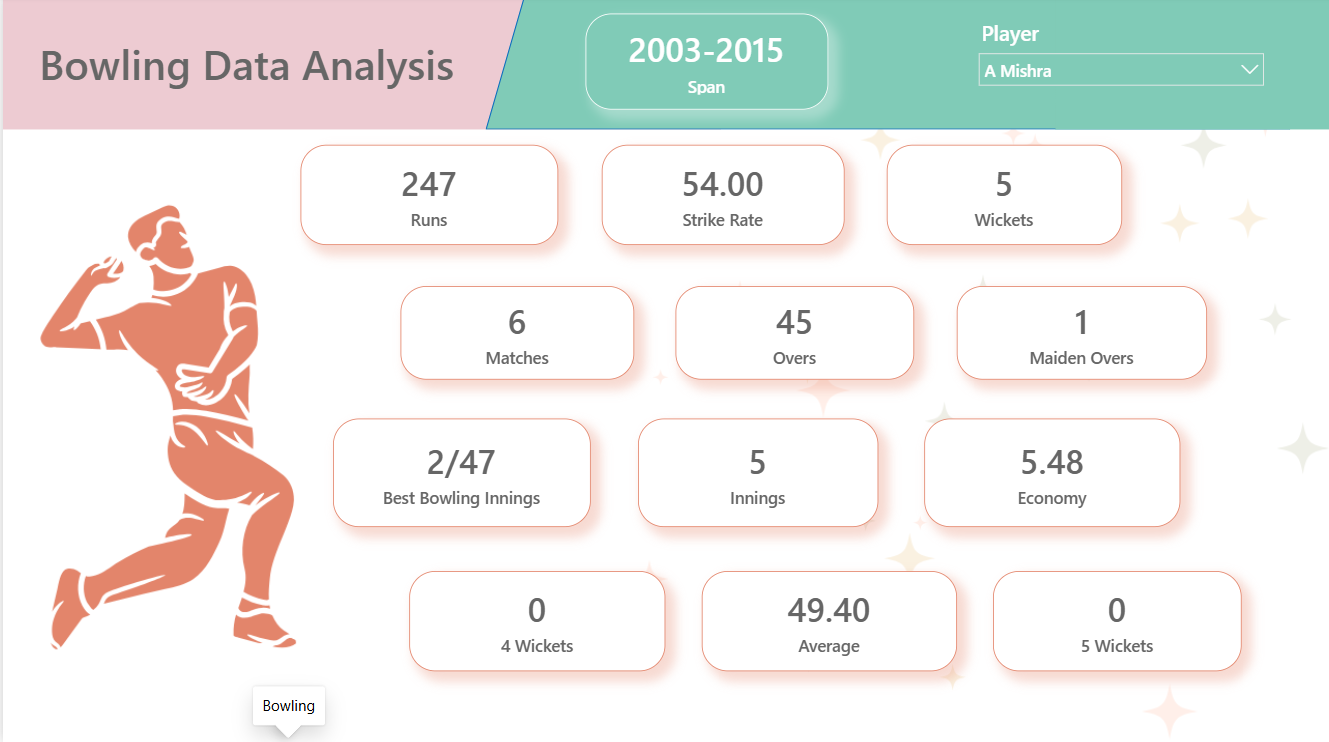

Layout of this report page (visuals, bound fields, positions):
{"tool":"powerbi","page":{"name":"Bowling","canvas":[1280,720],"ordinal":1},"visuals":[{"type":"shape","box":[0,0,693,129],"z":0},{"type":"shape","box":[465.2,0,813.7,129],"z":1000},{"type":"shape","box":[1015.4,0,264.8,129],"z":2000},{"type":"slicer","fields":{"Values":["bowling.Player"]},"box":[931.4,16.9,295.6,103.8],"z":3000},{"type":"card","fields":{"Values":["Min(bowling.Span)"]},"box":[562.2,16.9,234,92.9],"z":4000},{"type":"card","fields":{"Values":["Sum(bowling.SR)"]},"box":[577.3,143.6,234,96.5],"z":5000},{"type":"card","fields":{"Values":["Sum(bowling.WktsDescending)"]},"box":[853,143.6,226.8,96.5],"z":6000},{"type":"card","fields":{"Values":["Sum(bowling.Runs)"]},"box":[287.1,143.6,248.5,96.5],"z":7000},{"type":"card","fields":{"Values":["Sum(bowling.Overs)"]},"box":[648.7,279.9,230.4,90.5],"z":8000},{"type":"card","fields":{"Values":["Sum(bowling.Mdns)"]},"box":[920.5,279.9,241.3,90.5],"z":9000},{"type":"card","fields":{"Values":["Sum(bowling.Mat)"]},"box":[383.6,279.9,225.6,90.5],"z":10000},{"type":"card","fields":{"Values":["Sum(bowling.Inns)"]},"box":[612.3,408.3,231.6,105],"z":11000},{"type":"card","fields":{"Values":["Sum(bowling.Econ)"]},"box":[889.1,407.8,247.3,105],"z":12000},{"type":"card","fields":{"Values":["Min(bowling.BBI)"]},"box":[318.5,408.3,248.5,105],"z":13000},{"type":"card","fields":{"Values":["Sum(bowling.Ave)"]},"box":[674.4,555,246.1,96.5],"z":14000},{"type":"card","fields":{"Values":["Sum(bowling.4)"]},"box":[392.1,555,247.3,96.5],"z":15000},{"type":"card","fields":{"Values":["Sum(bowling.5)"]},"box":[955.5,555,240.1,96.5],"z":16000}]}

Visuals, with their boxes in screenshot pixels (x1, y1, x2, y2), scaled from the page's 1280x720 canvas onto the 1329x742 screenshot:
shape: 0,0,720,133
shape: 483,0,1328,133
shape: 1054,0,1328,133
slicer - bowling.Player: 967,17,1274,124
card - Min(bowling.Span): 584,17,827,113
card - Sum(bowling.SR): 599,148,842,247
card - Sum(bowling.WktsDescending): 886,148,1121,247
card - Sum(bowling.Runs): 298,148,556,247
card - Sum(bowling.Overs): 674,288,913,382
card - Sum(bowling.Mdns): 956,288,1206,382
card - Sum(bowling.Mat): 398,288,633,382
card - Sum(bowling.Inns): 636,421,876,529
card - Sum(bowling.Econ): 923,420,1180,528
card - Min(bowling.BBI): 331,421,589,529
card - Sum(bowling.Ave): 700,572,956,671
card - Sum(bowling.4): 407,572,664,671
card - Sum(bowling.5): 992,572,1241,671
